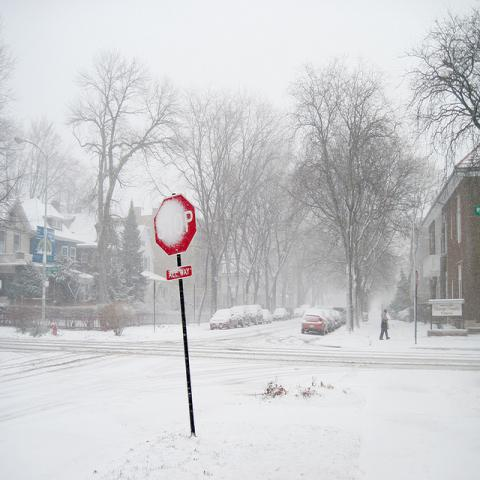car: (300, 308, 328, 334), (209, 310, 238, 330), (317, 310, 336, 333), (232, 307, 250, 328), (248, 304, 264, 326), (333, 307, 346, 326), (330, 309, 340, 329), (274, 308, 287, 321), (262, 309, 273, 324), (284, 308, 294, 319), (294, 307, 304, 318)
